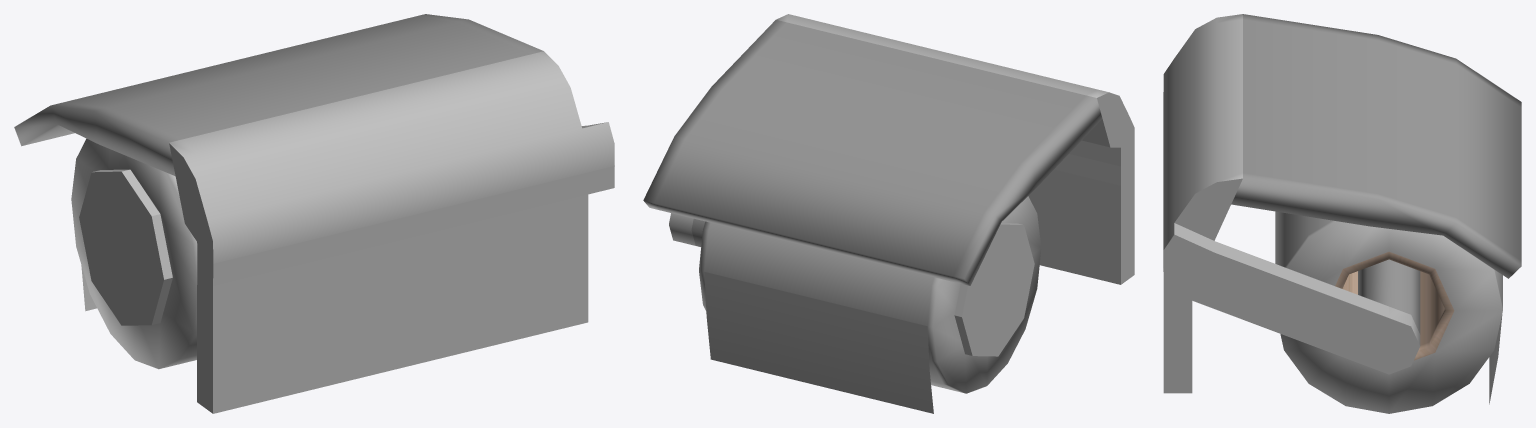
The model's file is toilet_paper_holder.glb.
The picture shows the model from 3 angles, left to right: view 1: azimuth 30°, elevation 25°; view 2: azimuth 150°, elevation 25°; view 3: azimuth 270°, elevation 25°; orthographic projection. The views are drawn at different scales.
Parts seen in each view (by area): view 1: ToiletPaperHolder; view 2: ToiletPaperHolder; view 3: ToiletPaperHolder.
Part boxes in pixels (x1=…): ToiletPaperHolder: x1=14, y1=14, x2=614, y2=413; ToiletPaperHolder: x1=643, y1=14, x2=1134, y2=413; ToiletPaperHolder: x1=1163, y1=14, x2=1521, y2=413.
Size of the model in its own units: 0.341 by 0.2341 by 0.2929.
3 materials, 1 textured.
